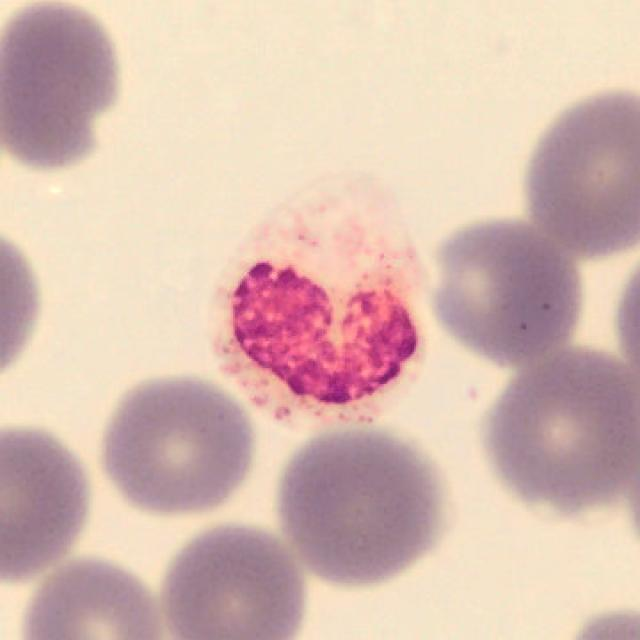Restos celulares: (204, 172, 437, 437)
